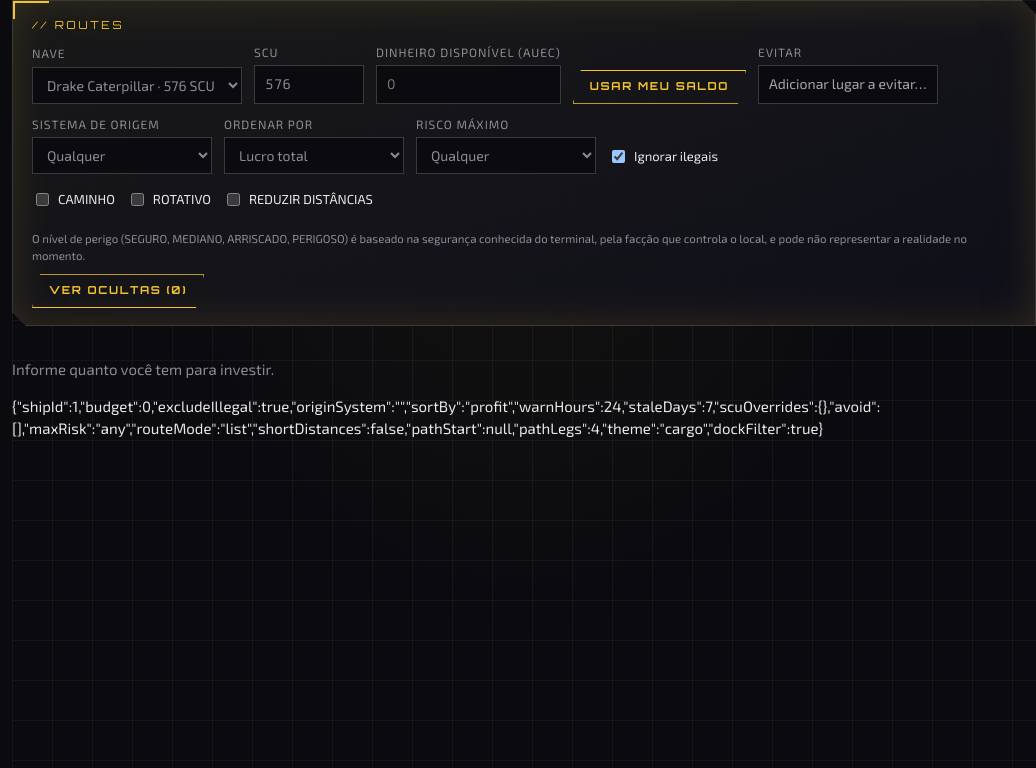
Test: RouteControls › Usar meu saldo preenche o dinheiro
Click the button "Usar meu saldo" at {"x": 660, "y": 87}, box x1=573 y1=70 x2=746 y2=104
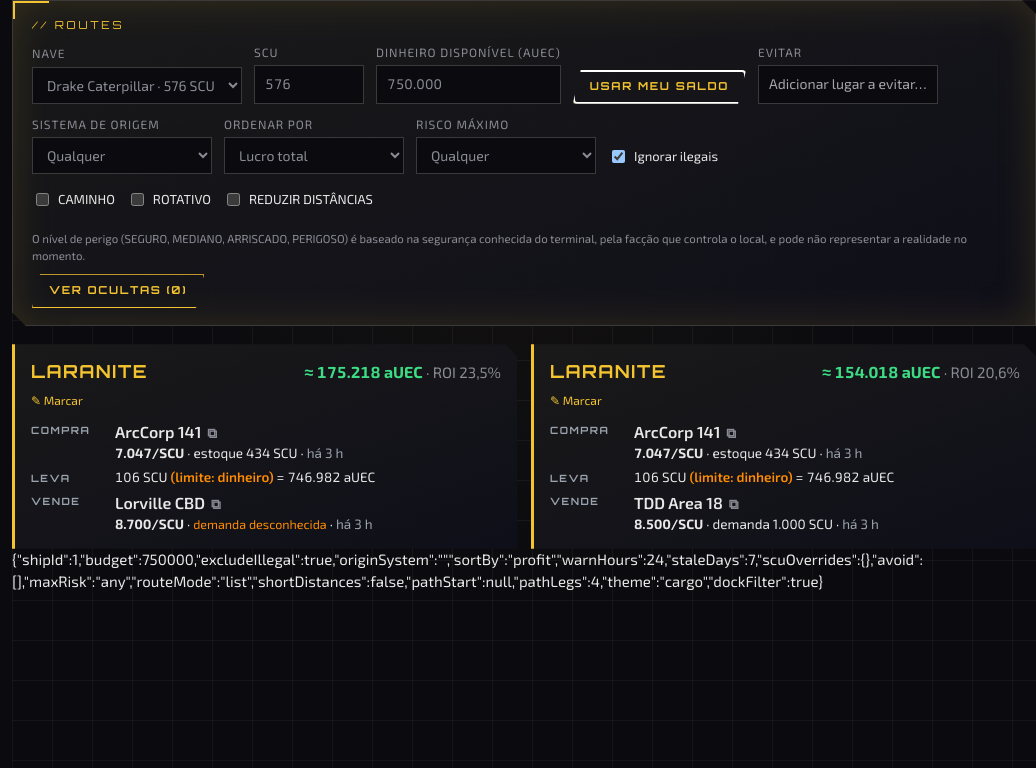
Check: the field labelled "Dinheiro disponível (aUEC)" holds "750.000", box x1=376 y1=65 x2=561 y2=104
